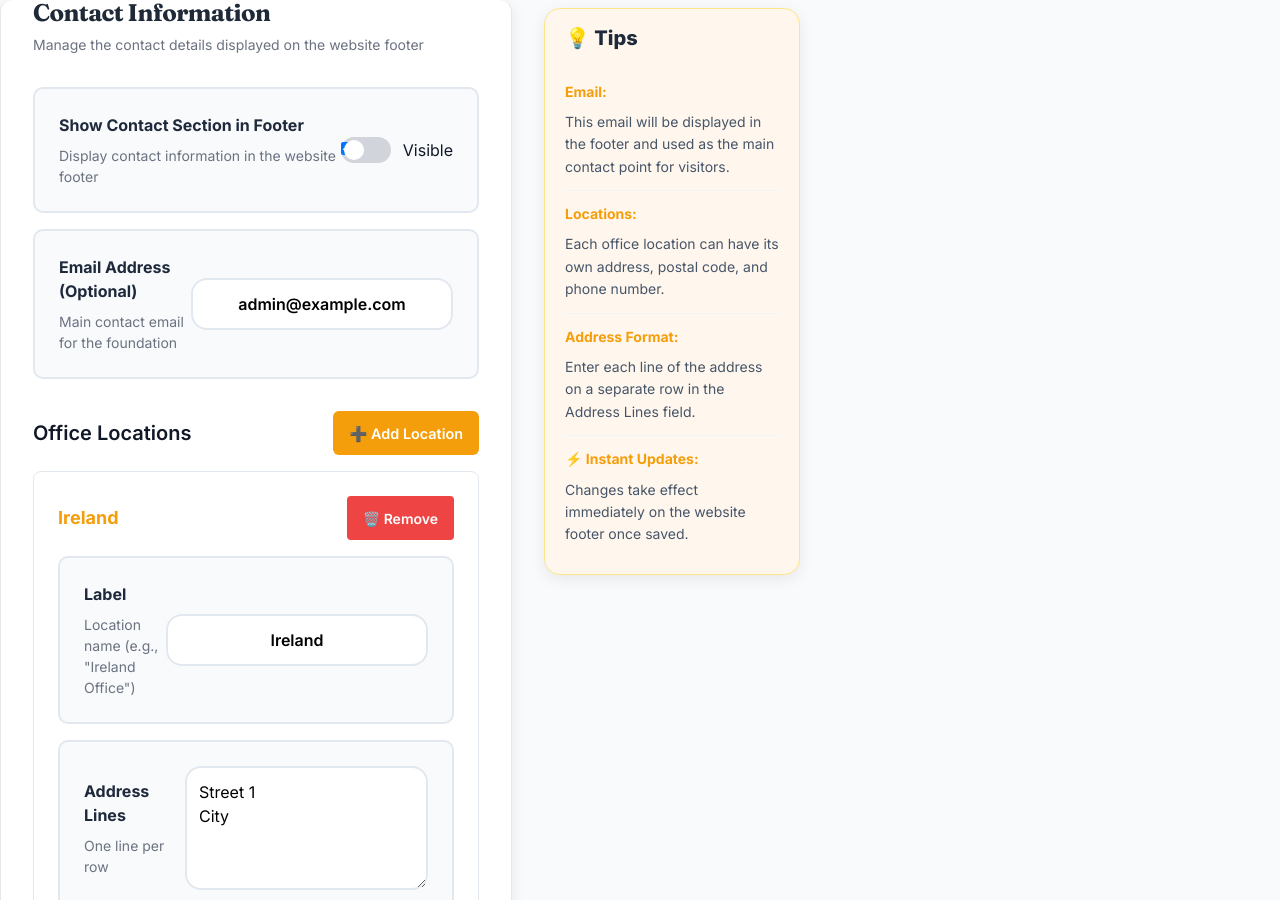
Test: AdminContactSettings › removes a location with confirmation
The image size is (1280, 900).
Expected: the field showing "admin@example.com" next to "Main contact email for the foundation" is shown, [191,278,453,330]
Click the button "🗑️ Remove" at (400, 518), box [347,496,454,540]
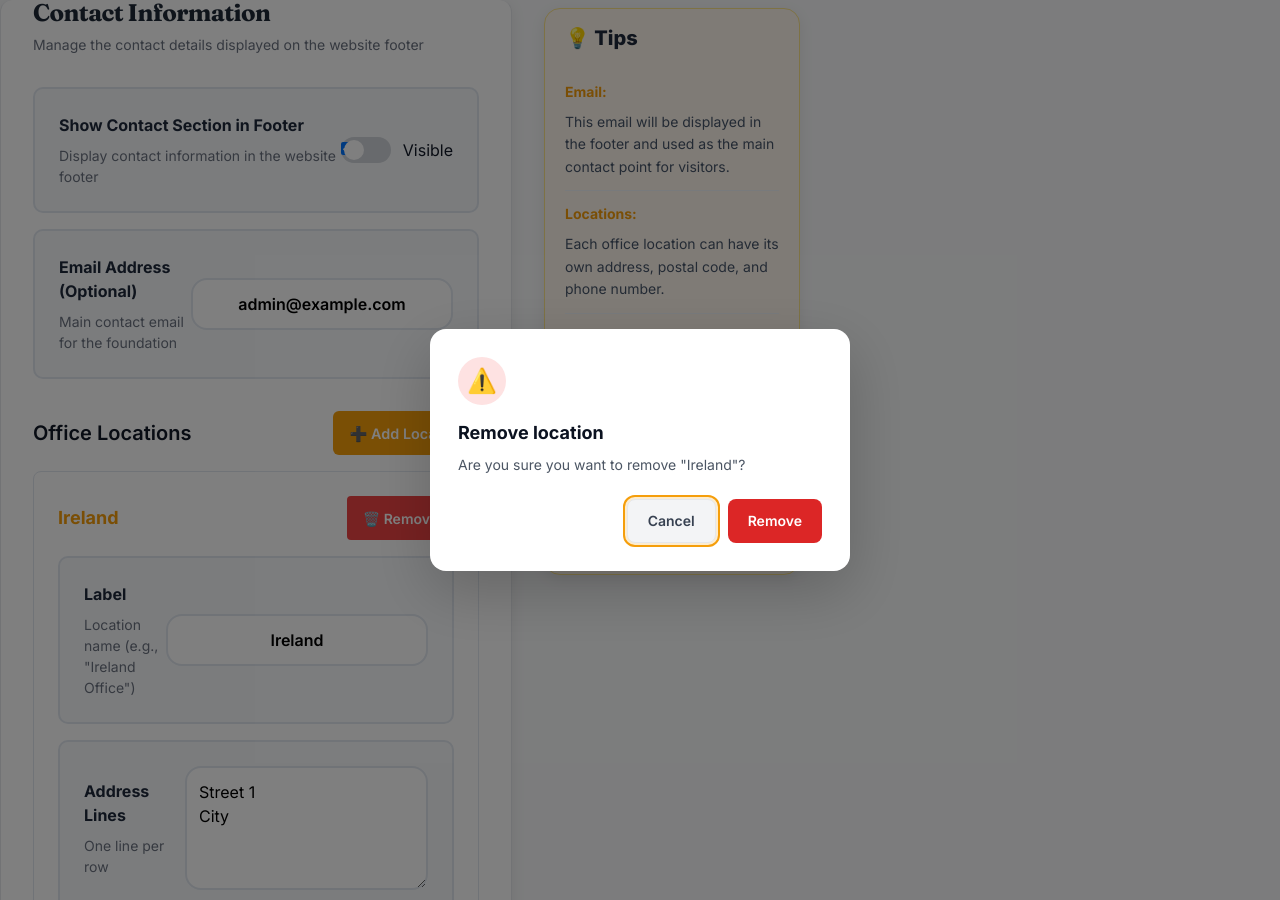
Wait for ConfirmDialog to appear and click the confirm button
Click the button with test id "confirm-dialog-confirm" at (775, 521), box [728,499,822,543]
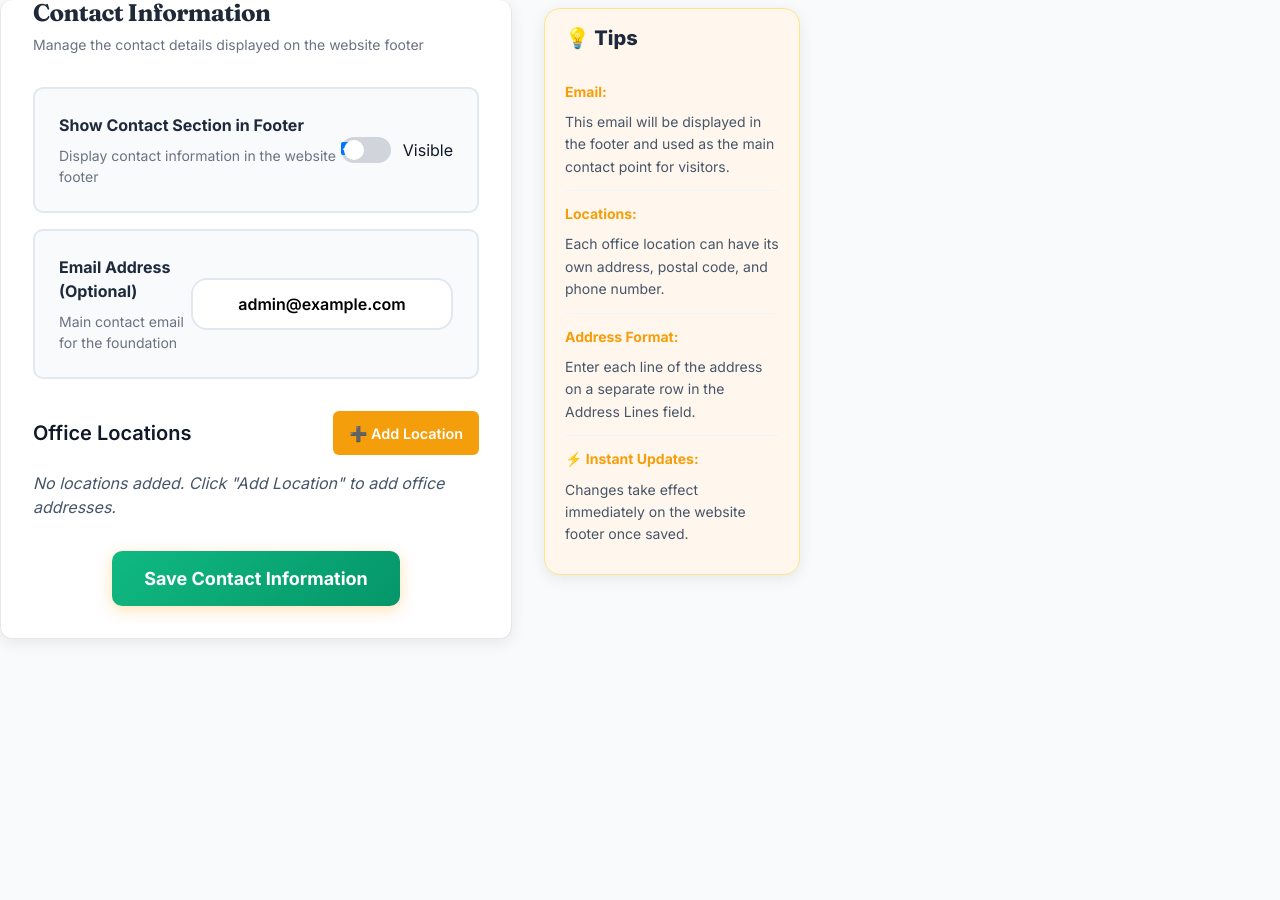
Now the heading showing "Ireland" is gone
